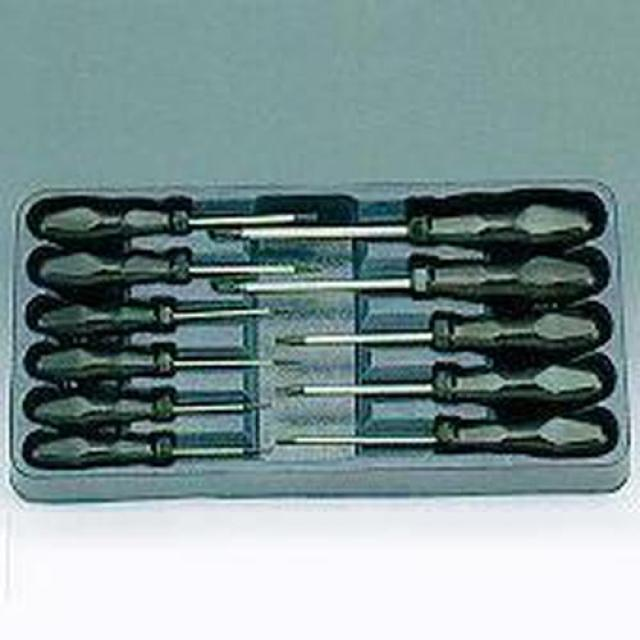screw driver: (268, 412, 608, 475), (204, 256, 606, 306), (269, 313, 615, 369), (196, 204, 600, 251), (17, 416, 283, 481), (13, 194, 340, 244), (23, 375, 280, 430), (28, 240, 306, 288), (23, 292, 286, 337)
